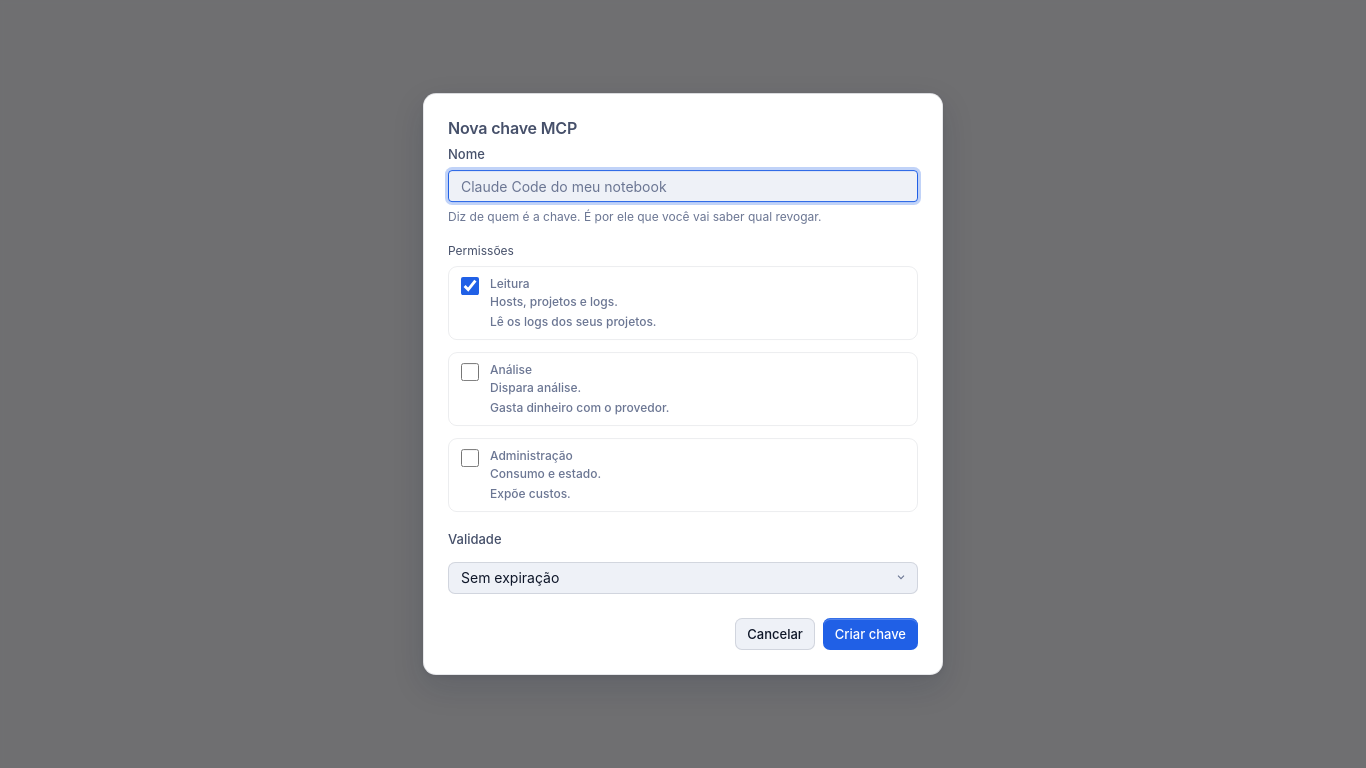
McpKeyDialog › não deixa criar chave sem nenhuma permissão
What coordinates should you click on to do the following:
click the checkbox labelled "Leitura"
I would click on:
 (470, 286)
Its box is [461,277,479,295].
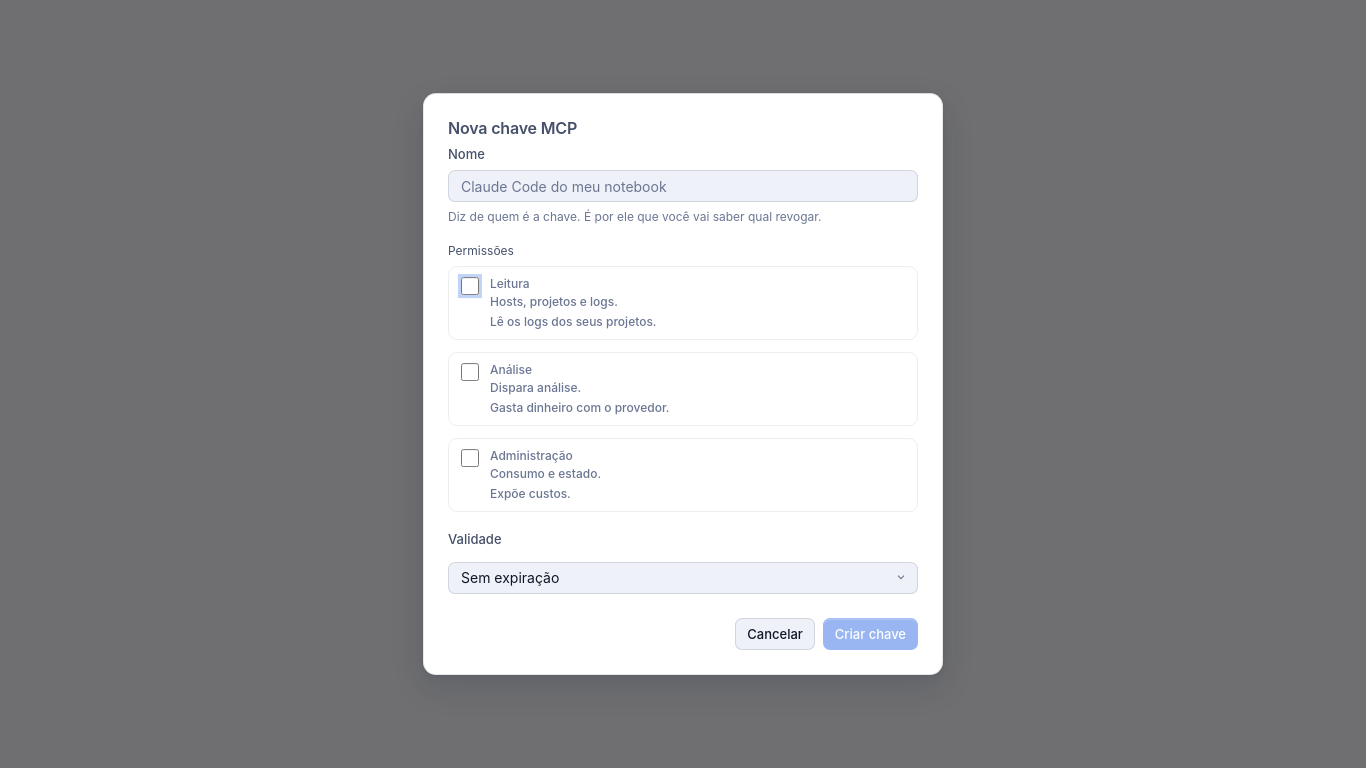
Now the button "Criar chave" is disabled, box [823,618,918,650]
